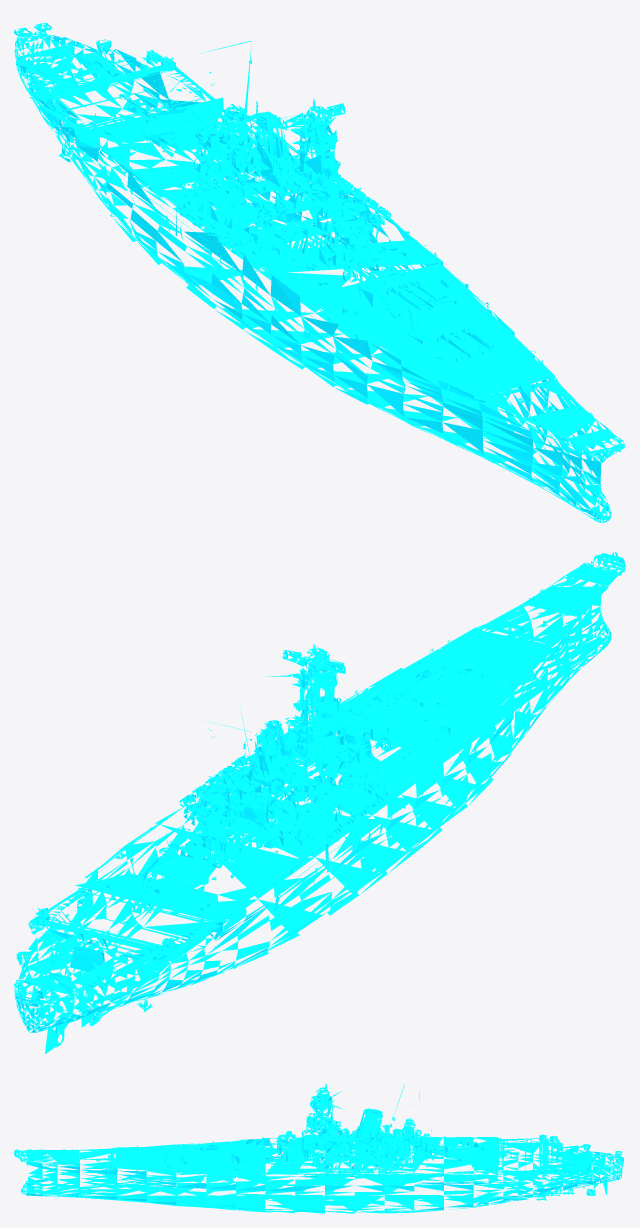
File: PJSB710.glb
3 renders of one model, top to bottom at view 1: azimuth 30°, elevation 25°; view 2: azimuth 150°, elevation 25°; view 3: azimuth 270°, elevation 25°, orthographic. The views are drawn at different scales.
Visible parts, largest first — view 1: hull, turret; view 2: hull, turret; view 3: hull, turret.
Boxes of the visible parts, bbox=[...] form: hull: bbox=[14, 15, 625, 522]; turret: bbox=[29, 50, 495, 356]; hull: bbox=[14, 552, 625, 1053]; turret: bbox=[30, 648, 494, 954]; hull: bbox=[14, 1083, 623, 1213]; turret: bbox=[150, 1131, 557, 1173].
Bounding box in the file's own units: 2.72 × 3.54 × 17.57.
